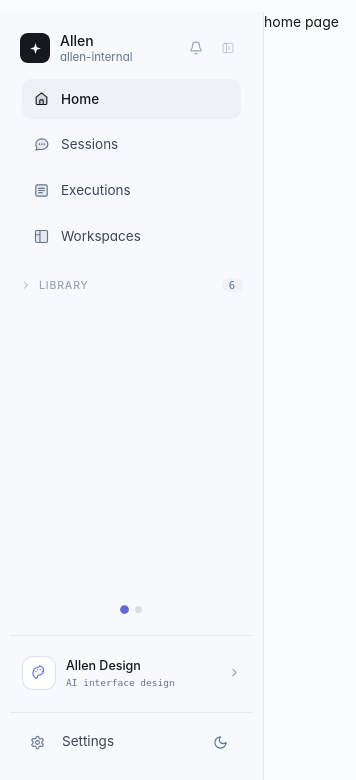
Test: V8 sidebar › opens the structured workspace pane and loads its search surface
Click the button named "Workspaces".
click(138, 610)  # box [135,606,142,613]
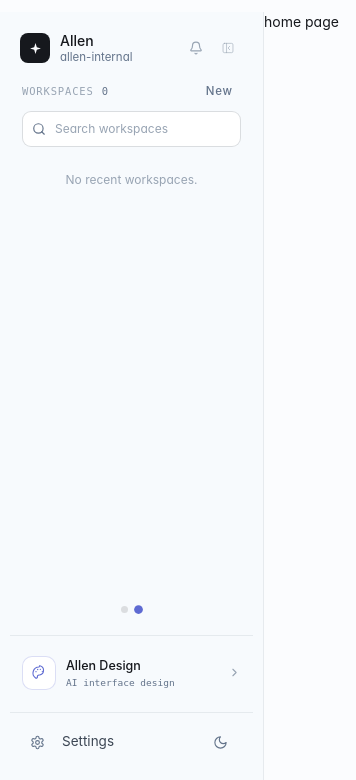
Check: the field with placeholder "Search workspaces" is shown, box [22,110,241,146]
Check: the text "No recent workspaces." is shown, box [66,172,197,186]
